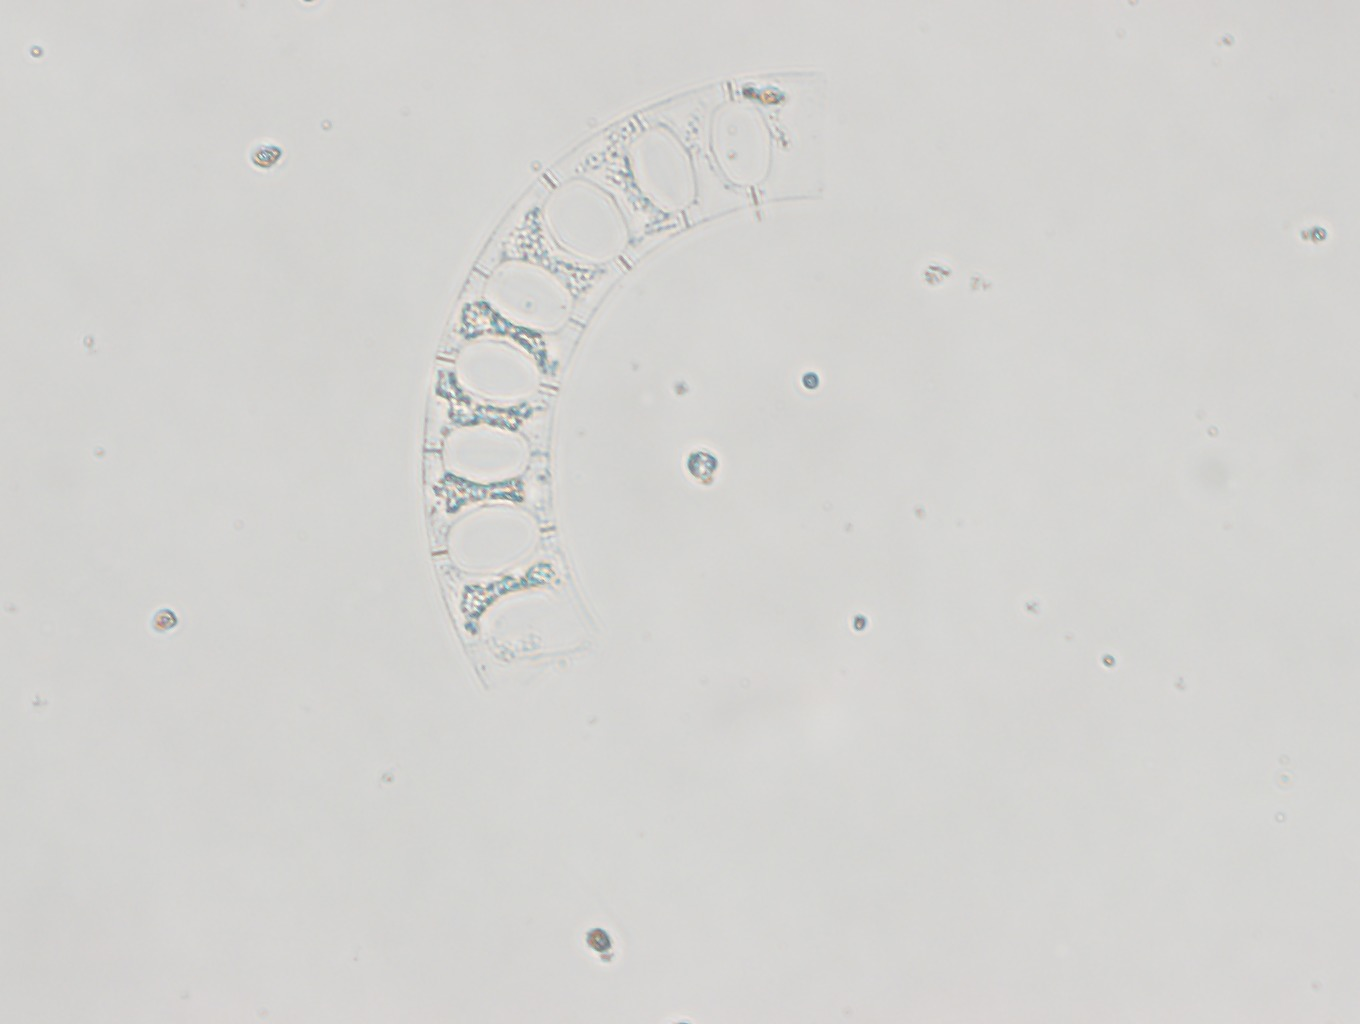eucampia: (415, 69, 829, 698)
